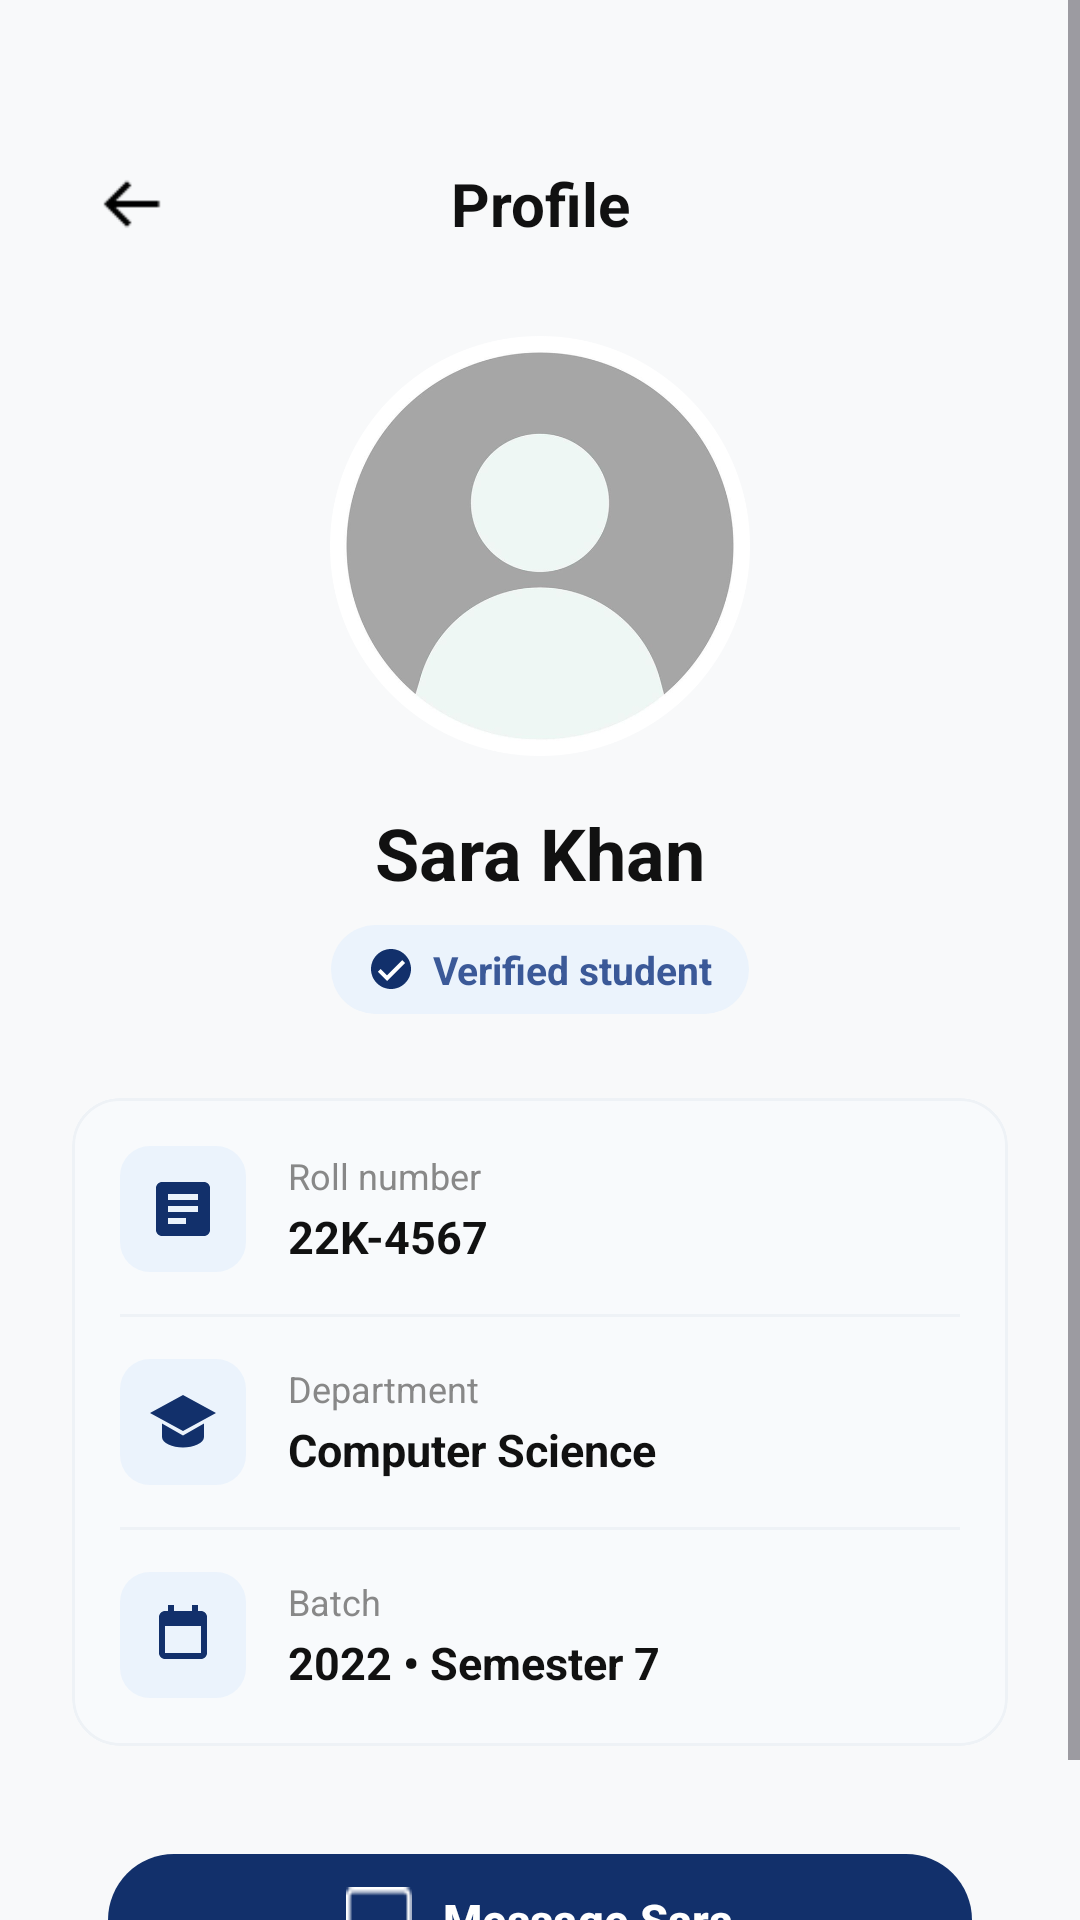

Named icons in this screenshot (1080px×1920px) and their centers, [x,y]:
Back: [131,204]
